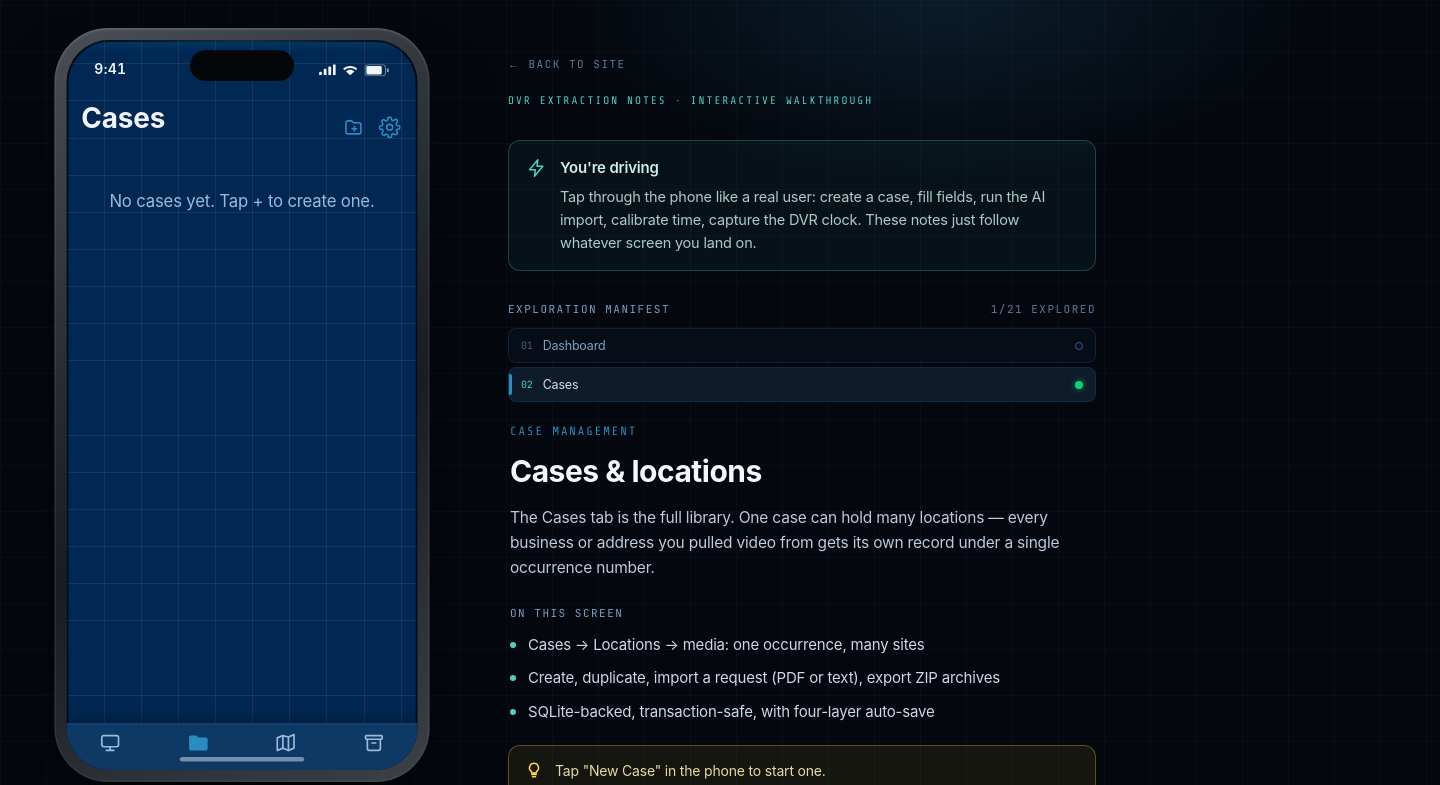
Test: DemoExperience — error boundary wiring › a throwing screen shows the fallback inside the frame; the frame and rail survive
Expected: the text "No cases yet. Tap + to create one." is shown, [109,189,374,214]
Step 1. Click the button named "Dashboard" → coordinates (110, 744), box [66,730,154,759]
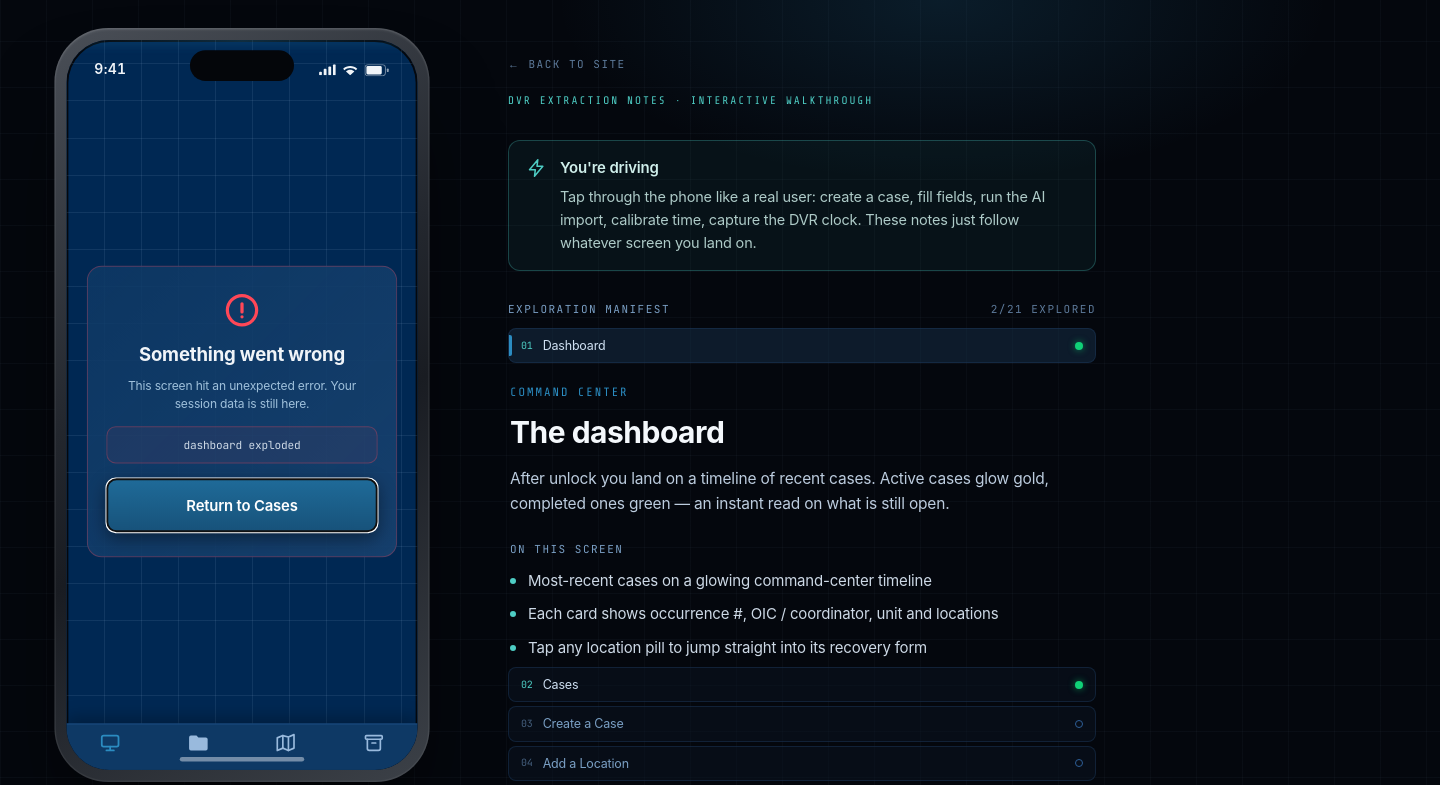
Expected: the element that starts with "Something went wrong" is shown, [54,28,430,782]
Result: the message shows "Something went wrong" at [139,344,345,366]
Result: the message shows "dashboard exploded" at [183,437,301,452]
